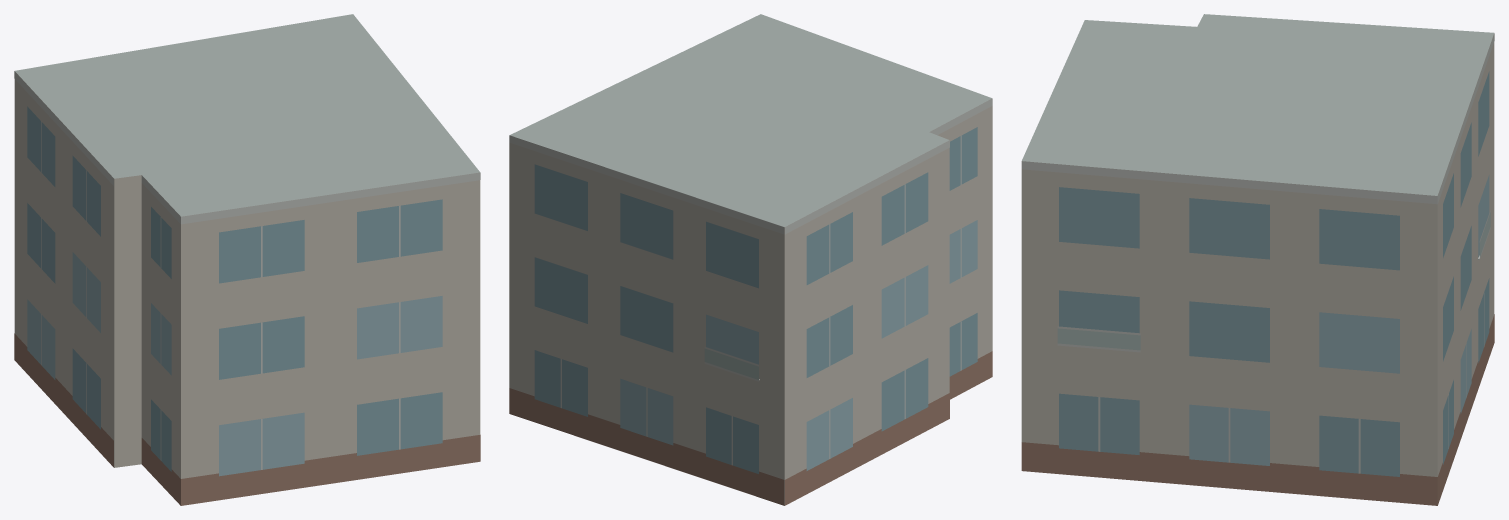
Rendered from survey-upis-32479455.glb.
The picture shows the model from 3 angles, left to right: view 1: azimuth 30°, elevation 25°; view 2: azimuth 150°, elevation 25°; view 3: azimuth 270°, elevation 25°; orthographic projection. The views are drawn at different scales.
Parts seen in each view (by area): view 1: survey-upis-32479455.tmp; view 2: survey-upis-32479455.tmp; view 3: survey-upis-32479455.tmp.
Part boxes in pixels (<box>): survey-upis-32479455.tmp: <box>14,14,480,505</box>; survey-upis-32479455.tmp: <box>509,14,992,505</box>; survey-upis-32479455.tmp: <box>1021,14,1494,505</box>.
Size of the model in its own units: 11.53 by 9.15 by 12.67.
